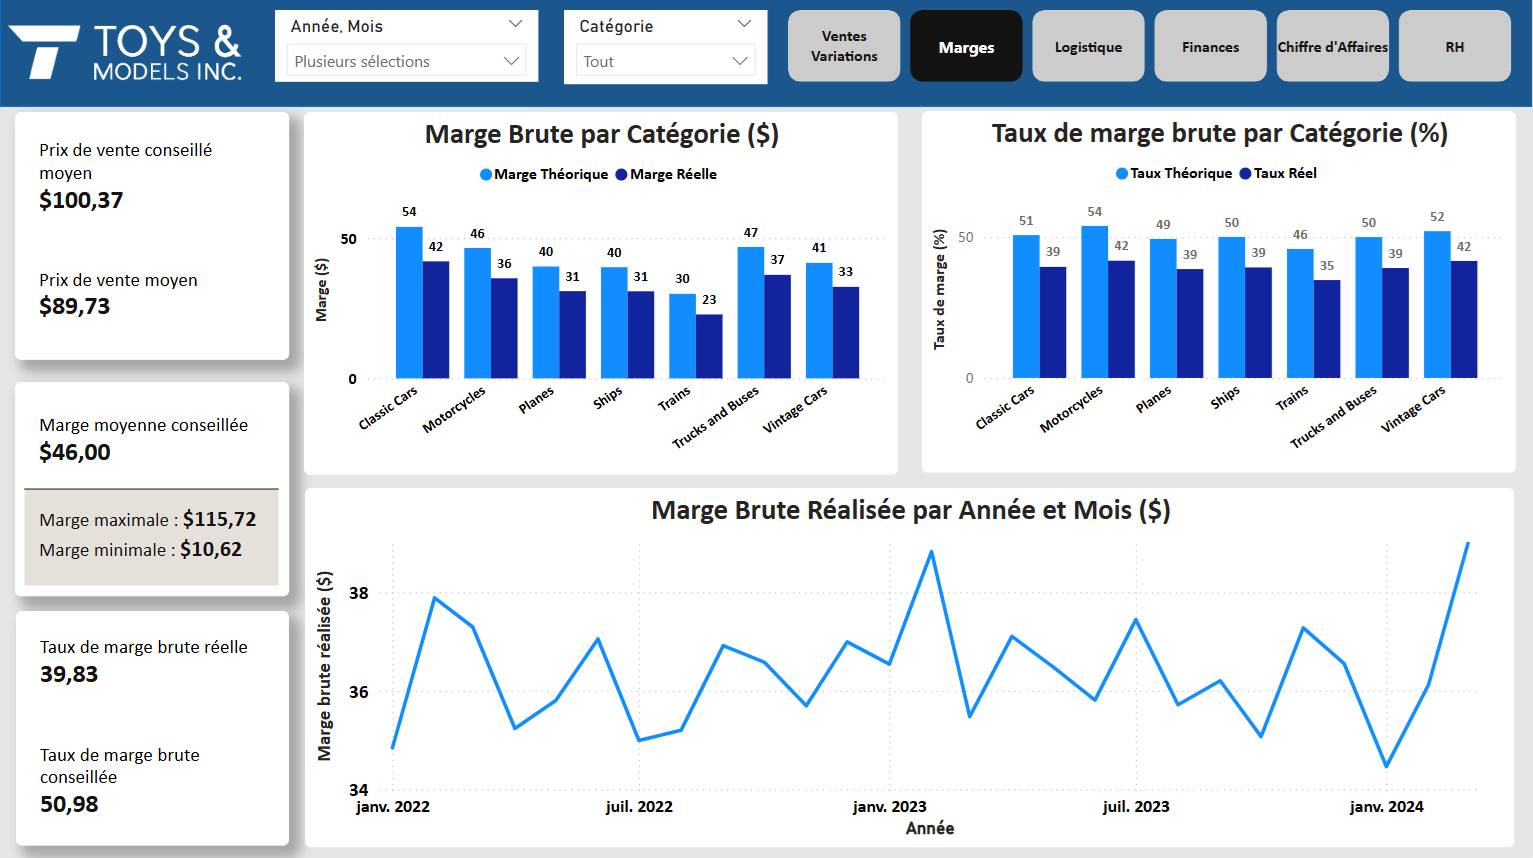

The dashboard page shown, as its layout file describes it:
{"tool":"powerbi","page":{"name":"Marges","canvas":[1280,720],"ordinal":1},"visuals":[{"type":"shape","box":[0,1.5,1280,90],"z":0},{"type":"pageNavigator","box":[658,10.5,607,60],"z":1000},{"type":"image","box":[0,0,209.8,91.4],"z":2000},{"type":"cardVisual","fields":{"Data":["Avg(DIM_Marges.MSRP)","Avg(DIM_Marges.pxunit)"]},"box":[12.9,95.7,228.6,207.1],"z":3000},{"type":"cardVisual","fields":{"Data":["Avg(DIM_Marges.margeTheorique)"]},"box":[12.9,321.4,228.6,178.6],"z":4000},{"type":"cardVisual","fields":{"Data":["Mesure.TxMargeBruteRéel","Mesure.TxMargeBruteThéorique"]},"box":[13.3,513.1,228.1,196.2],"z":5000},{"type":"clusteredColumnChart","title":"Taux de marge brute par Catégorie (%)","fields":{"Y":["Mesure.TxMargeBruteThéorique","Mesure.TxMargeBruteRéel"],"Category":["DIM_CATEGORIE.Catégorie"]},"box":[770.4,95.5,495.9,302.3],"z":6000},{"type":"clusteredColumnChart","title":"Marge Brute par Catégorie ($)","fields":{"Y":["Mesure.MargeBrutThéorique","Mesure.MargeBrutRéelle"],"Category":["DIM_CATEGORIE.Catégorie"]},"box":[254.3,95.7,495.7,302.9],"z":7000},{"type":"slicer","fields":{"Values":["DIM_CATEGORIE.Catégorie"]},"box":[470.7,10.6,169.7,62.3],"z":8000},{"type":"slicer","fields":{"Values":["DIM_Calendar.Date.Variation.Hiérarchie de dates.Année","DIM_Calendar.Date.Variation.Hiérarchie de dates.Mois"]},"box":[229.4,10.6,220.1,59.7],"z":9000},{"type":"lineChart","title":"Marge Brute Réalisée par Année et Mois ($)","fields":{"Y":["Mesure.MargeBrutRéelle"],"Category":["DIM_Calendar.Date.Variation.Hiérarchie de dates.Année","DIM_Calendar.Date.Variation.Hiérarchie de dates.Mois"]},"box":[254.6,409.7,1010.4,299.7],"z":10000}]}

Visuals, with their boxes in screenshot pixels (x1, y1, x2, y2), scaled from the page's 1280x720 canvas onto the 1533x858 screenshot:
shape: Rect(0, 2, 1532, 109)
pageNavigator: Rect(788, 13, 1515, 84)
image: Rect(0, 0, 251, 109)
cardVisual - Avg(DIM_Marges.MSRP) x Avg(DIM_Marges.pxunit): Rect(15, 114, 289, 361)
cardVisual - Avg(DIM_Marges.margeTheorique): Rect(15, 383, 289, 596)
cardVisual - Mesure.TxMargeBruteRéel x Mesure.TxMargeBruteThéorique: Rect(16, 611, 289, 845)
"Taux de marge brute par Catégorie (%)" clusteredColumnChart: Rect(923, 114, 1517, 474)
"Marge Brute par Catégorie ($)" clusteredColumnChart: Rect(305, 114, 898, 475)
slicer - DIM_CATEGORIE.Catégorie: Rect(564, 13, 767, 87)
slicer - DIM_Calendar.Date.Variation.Hiérarchie de dates.Année x DIM_Calendar.Date.Variation.Hiérarchie de dates.Mois: Rect(275, 13, 538, 84)
"Marge Brute Réalisée par Année et Mois ($)" lineChart: Rect(305, 488, 1515, 845)
